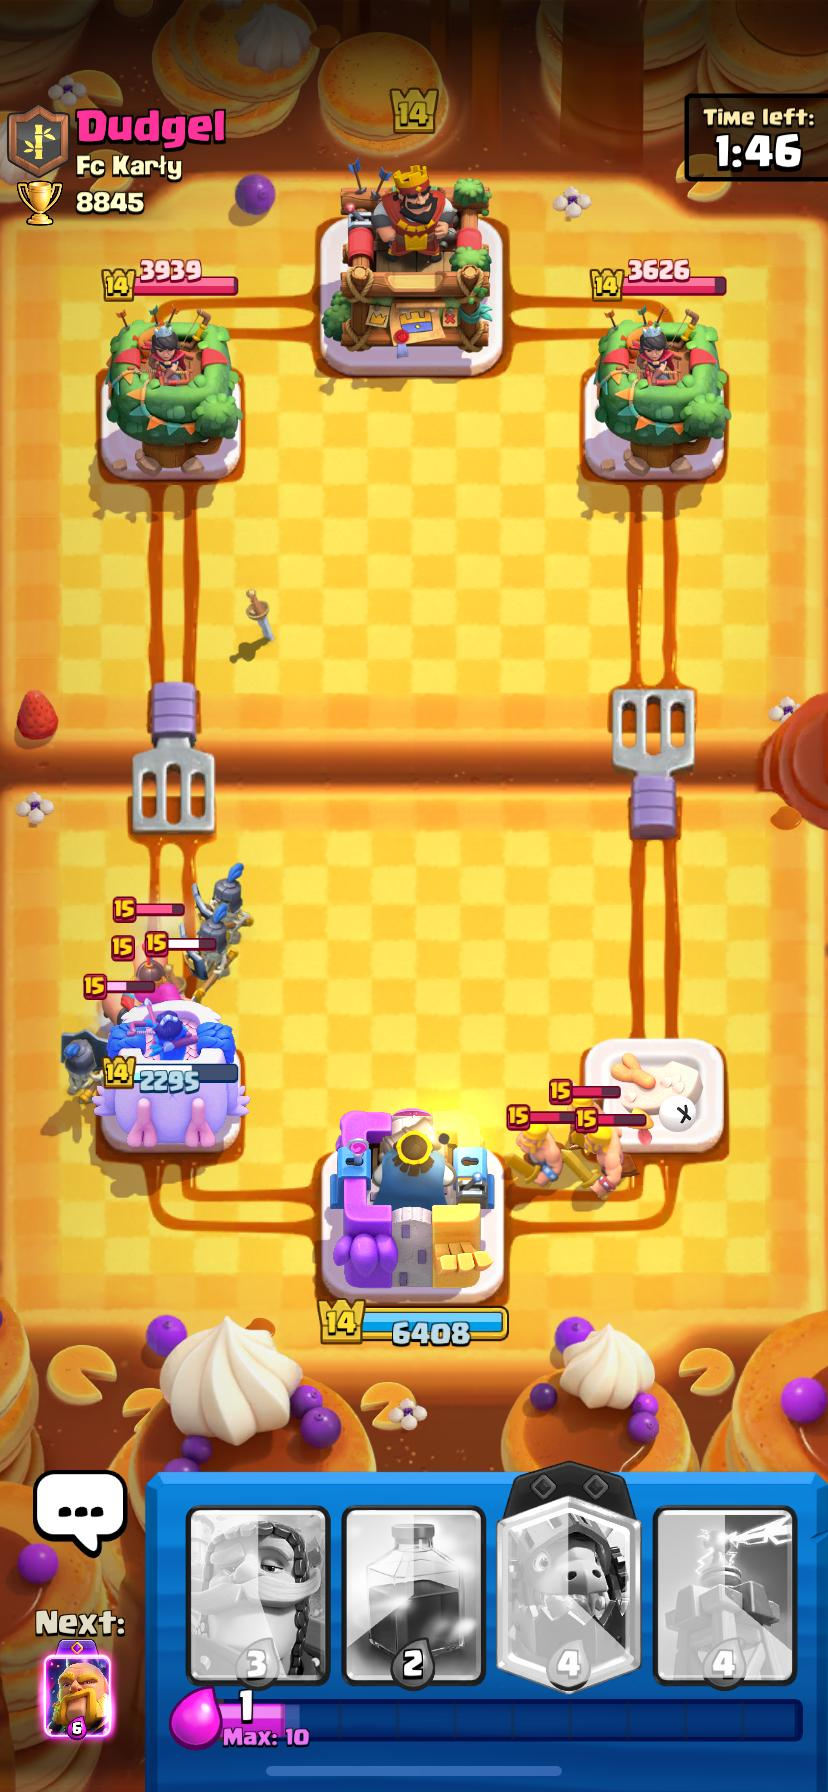EBarb: (515, 1129, 563, 1189), (588, 1128, 623, 1200)
EKingTower: (321, 166, 502, 374)
ERoyalHog: (135, 943, 164, 984), (103, 993, 133, 1024)
EnemyPrincessTower: (102, 304, 242, 479), (594, 307, 729, 478)
OGuard: (169, 918, 239, 990), (193, 863, 252, 934), (61, 1031, 106, 1102)
OwnKingTower: (321, 1109, 503, 1306)
OwnPrincessTower: (93, 997, 248, 1150)
TowerDown: (583, 1038, 724, 1153)
